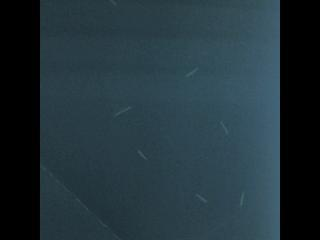crack: (40, 165, 121, 240)
scratch: (109, 102, 135, 122), (182, 64, 200, 83), (191, 190, 210, 208), (215, 118, 231, 138), (133, 145, 150, 162), (238, 189, 248, 208), (105, 0, 123, 10)
